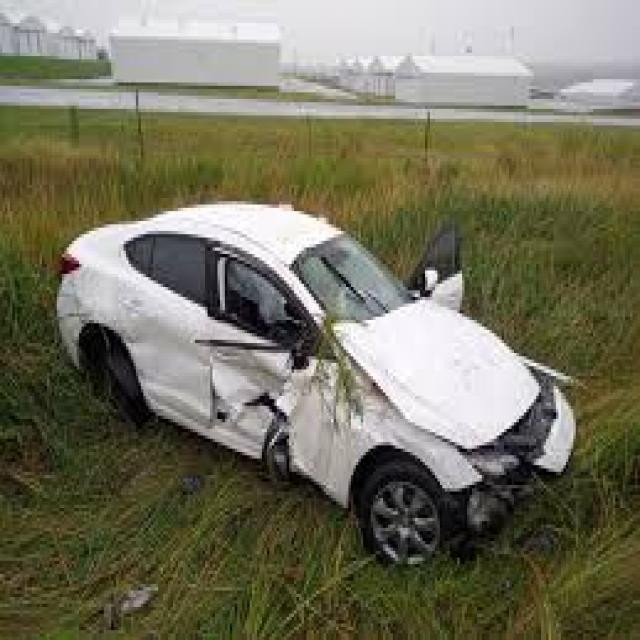accident: (8, 164, 596, 582)
